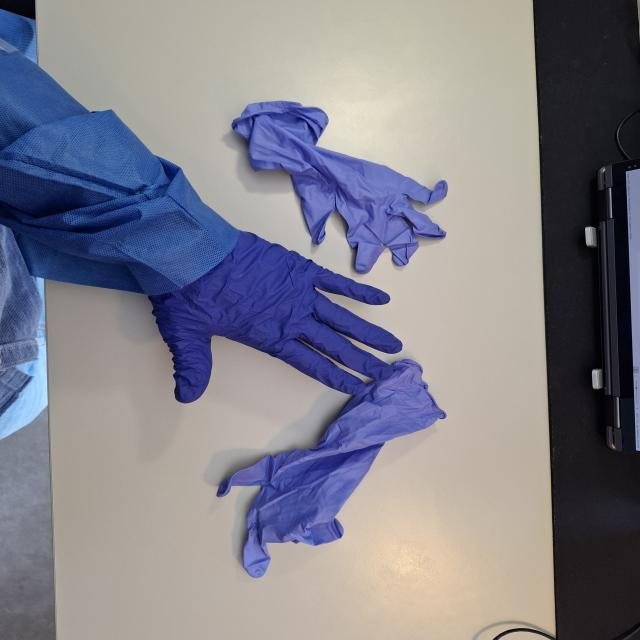glove_on: (138, 223, 408, 407)
